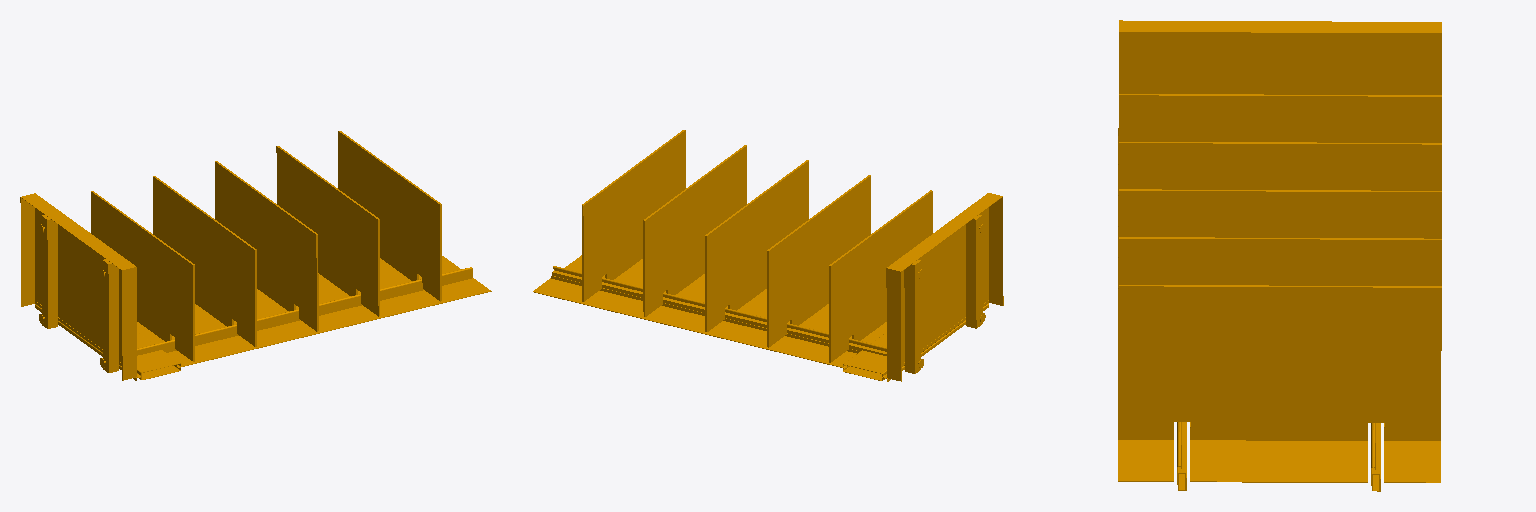
URDF robot description (AH_shelf):
<?xml version="1.0" ?>
<robot name="AH_shelf">
  <link name="AH_shelf__link">
    <inertial>
      <mass value="1"/>
      <origin xyz="0 0 0" rpy="0 0 0"/>
      <inertia ixx="1" ixy="0" ixz="0" iyy="1" iyz="0" izz="1"/>
    </inertial>
    <collision name="AH_shelf__collision">
      <origin xyz="0 0 0" rpy="1.57 0 1.57"/>
      <geometry>
        <mesh filename="AH_shelf/AH_shelf.dae" scale="1 1 1"/>
      </geometry>
    </collision>
    <visual name="AH_shelf__visual">
      <origin xyz="0 0 0" rpy="1.57 0 1.57"/>
      <geometry>
        <mesh filename="AH_shelf/AH_shelf.dae" scale="1 1 1"/>
      </geometry>
    </visual>
  </link>
</robot>

--- Render facts (derived) ---
The picture shows the robot from 3 angles, left to right: view 1: azimuth 30°, elevation 25°; view 2: azimuth 150°, elevation 25°; view 3: azimuth 270°, elevation 25°; orthographic projection.
Robot: AH_shelf — 1 links, 0 joints (none); root link AH_shelf__link; default pose: every joint at zero.
Visible links, largest first — view 1: AH_shelf__link; view 2: AH_shelf__link; view 3: AH_shelf__link.
Link boxes in pixels (x1,y1,x2,y2): AH_shelf__link: [20, 131, 491, 380]; AH_shelf__link: [533, 130, 1003, 381]; AH_shelf__link: [1118, 20, 1441, 491].
Size in the robot's own frame: 2.09 by 1 by 0.6341 metres.
Meshes: 1 distinct files referenced, 1 mesh visuals loaded (1 Collada DAE).